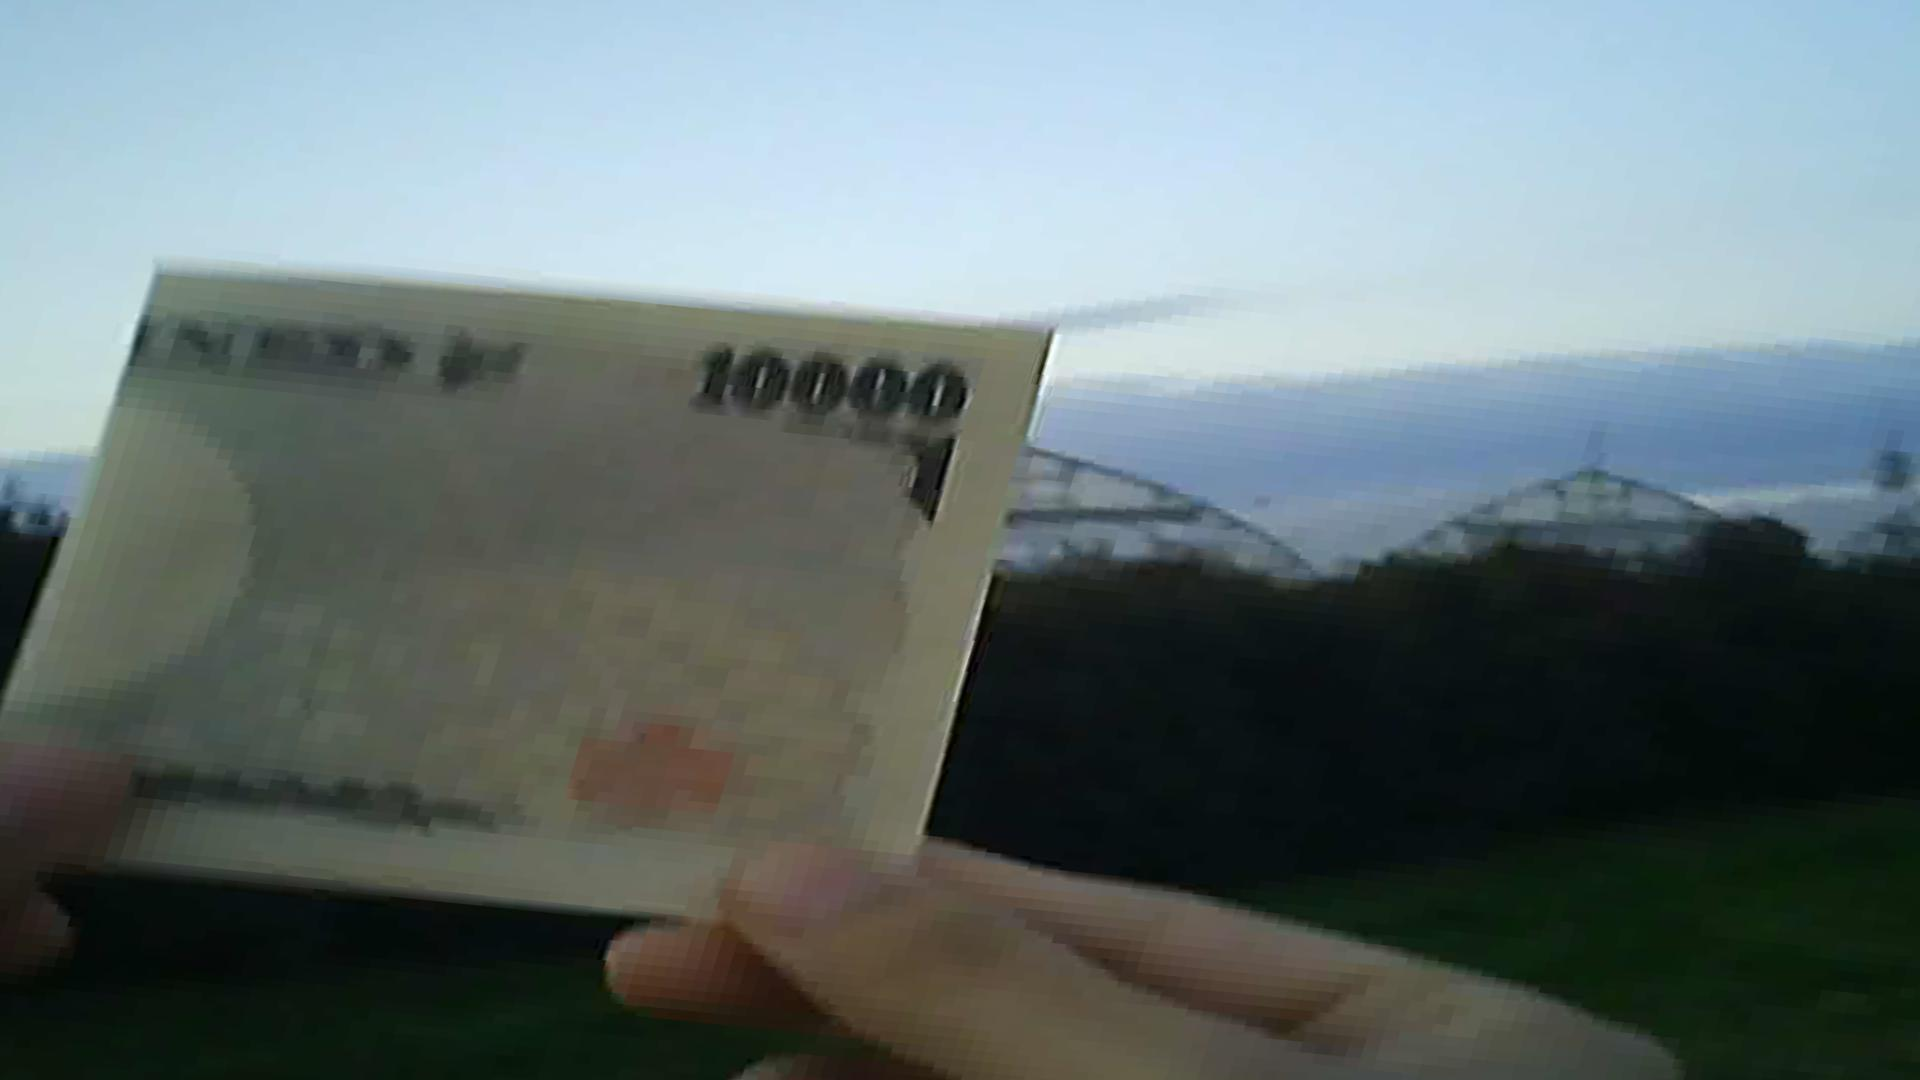10,000 Yen: (20, 249, 1036, 978)
